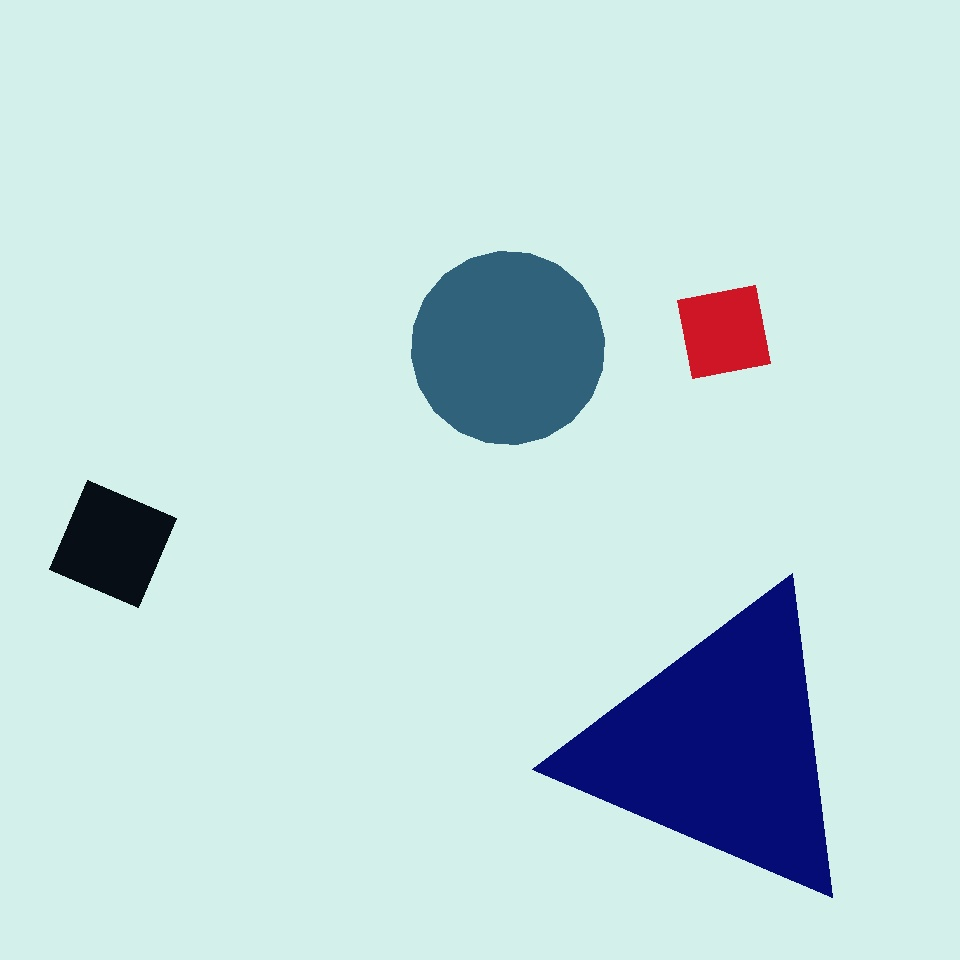circle: (569, 585, 869, 909)
square: (556, 51, 738, 233), (50, 480, 176, 608), (678, 286, 770, 378)
triangle: (412, 252, 604, 444), (171, 376, 271, 476)
